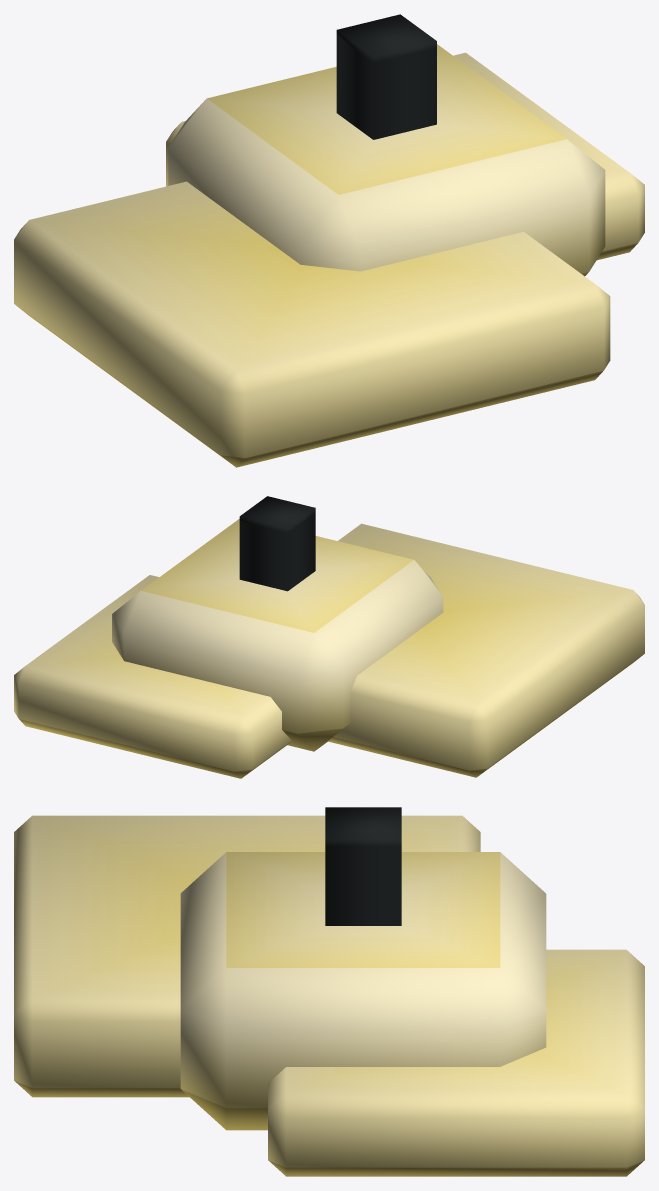
The model's file is candle_arrangement_4.fbx.
3 views of the same model, one above another, from view 1: azimuth 30°, elevation 25°; view 2: azimuth 150°, elevation 25°; view 3: azimuth 270°, elevation 25° (orthographic). The views are drawn at different scales.
Visible parts, largest first — view 1: candle_arrangement_4; view 2: candle_arrangement_4; view 3: candle_arrangement_4.
Boxes of the visible parts, x1,y1,x2,y2 form: candle_arrangement_4: (14,14,644,467); candle_arrangement_4: (14,496,644,778); candle_arrangement_4: (14,807,644,1176).
Bounding box in the file's own units: 71.48 × 30 × 68.88.
